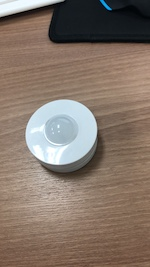bulb: (25, 99, 99, 173)
